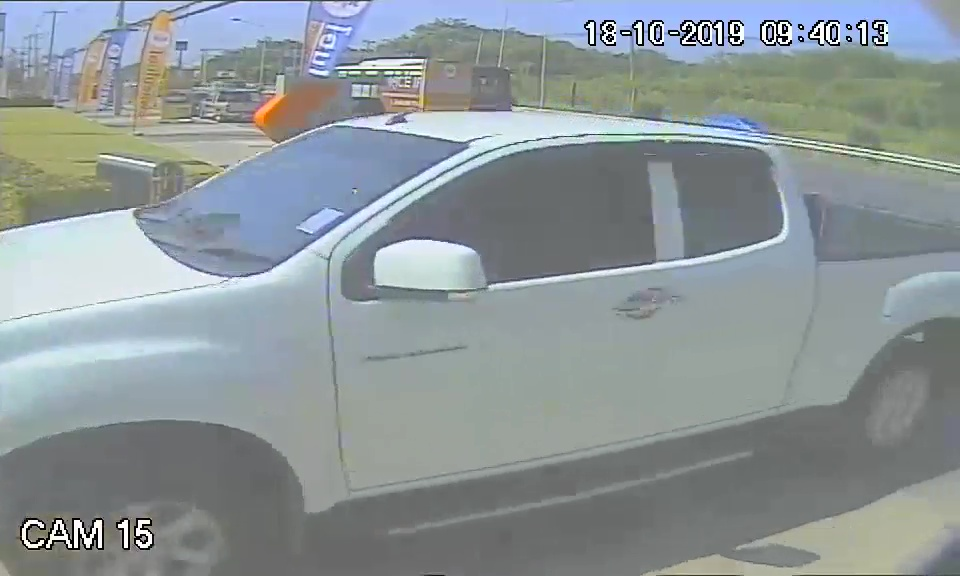pickup: (2, 115, 960, 511)
